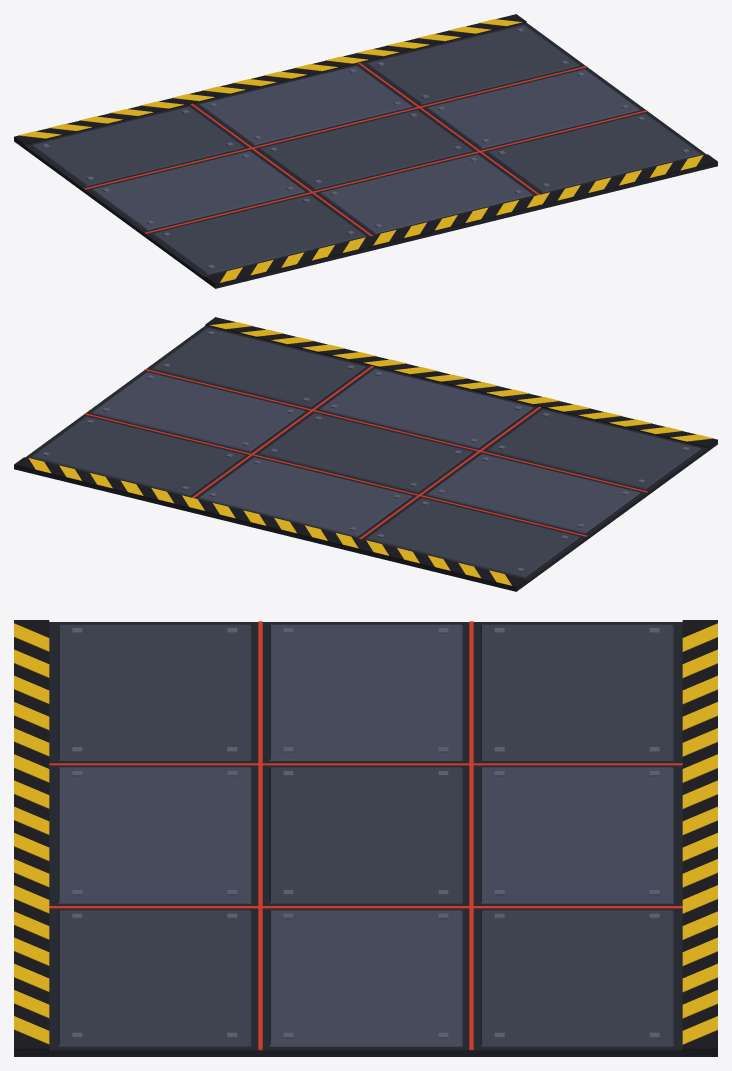
The model's file is arena_floor_tile.glb.
3 renders of one model, top to bottom at view 1: azimuth 30°, elevation 25°; view 2: azimuth 150°, elevation 25°; view 3: azimuth 270°, elevation 25°, orthographic. The views are drawn at different scales.
Parts seen in each view (by area): view 1: arena_floor_tile; view 2: arena_floor_tile; view 3: arena_floor_tile.
Part boxes in pixels (box(x1,y1,x2,y2)): arena_floor_tile: box(14, 14, 717, 288); arena_floor_tile: box(14, 317, 717, 591); arena_floor_tile: box(14, 620, 717, 1056).
Bounding box in the file's own units: 14.4 × 0.16 × 10.
Materials: 1 (1 with a texture image).
